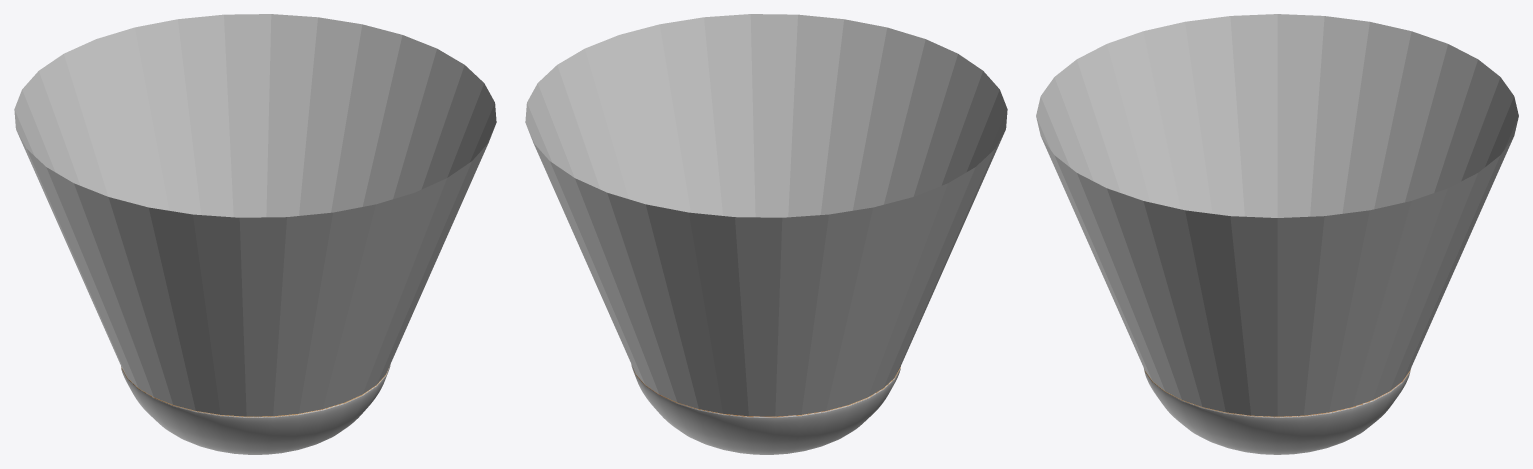
The model's file is Bowl_3_tex.obj.
3 views of the same model, side by side, from view 1: azimuth 30°, elevation 25°; view 2: azimuth 150°, elevation 25°; view 3: azimuth 270°, elevation 25° (orthographic).
Parts seen in each view (by area): view 1: Vert.001; view 2: Vert.001; view 3: Vert.001.
Boxes of the visible parts, x1,y1,x2,y2 form: Vert.001: (14, 14, 496, 454); Vert.001: (525, 14, 1007, 454); Vert.001: (1036, 14, 1518, 454).
Size of the model in its own units: 0.5355 by 0.3881 by 0.5355.
